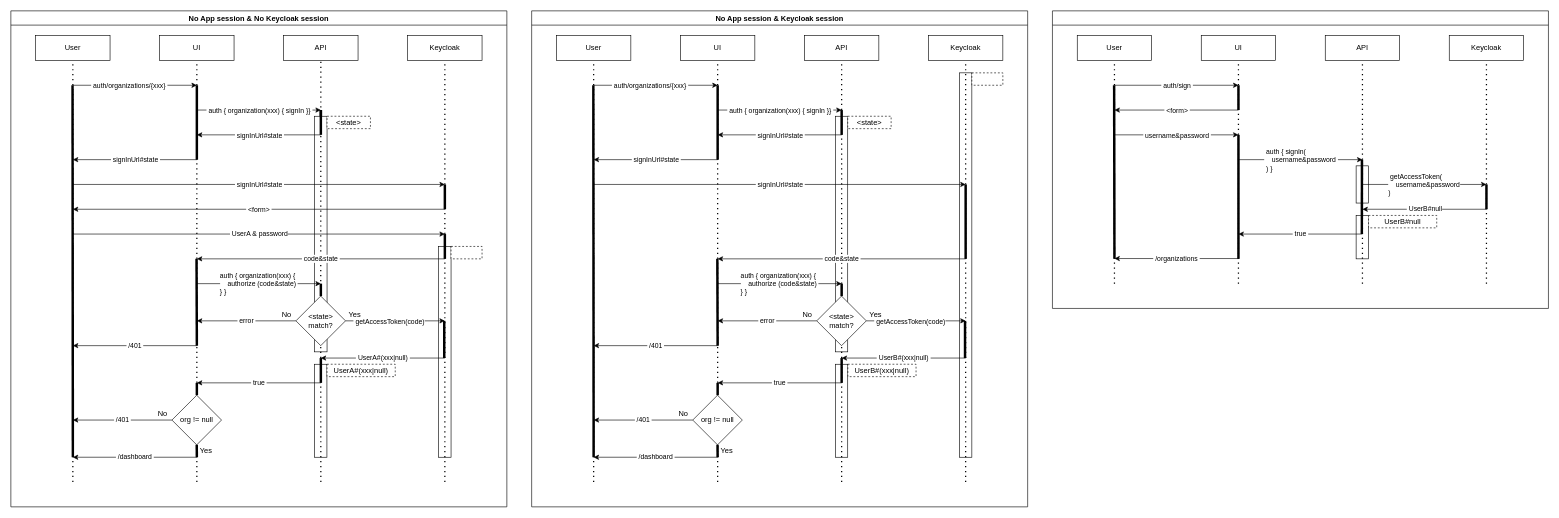
Image size: 1559x518. Some labels were removed from this diagram. Here are the shapes that lost their labels. From the top down, the box of each, then its label:
(971, 72, 1003, 85): UserB
(1052, 10, 1548, 308): Local Sign In (OAuth 2.0 Password Grant)
(450, 246, 482, 259): UserA
